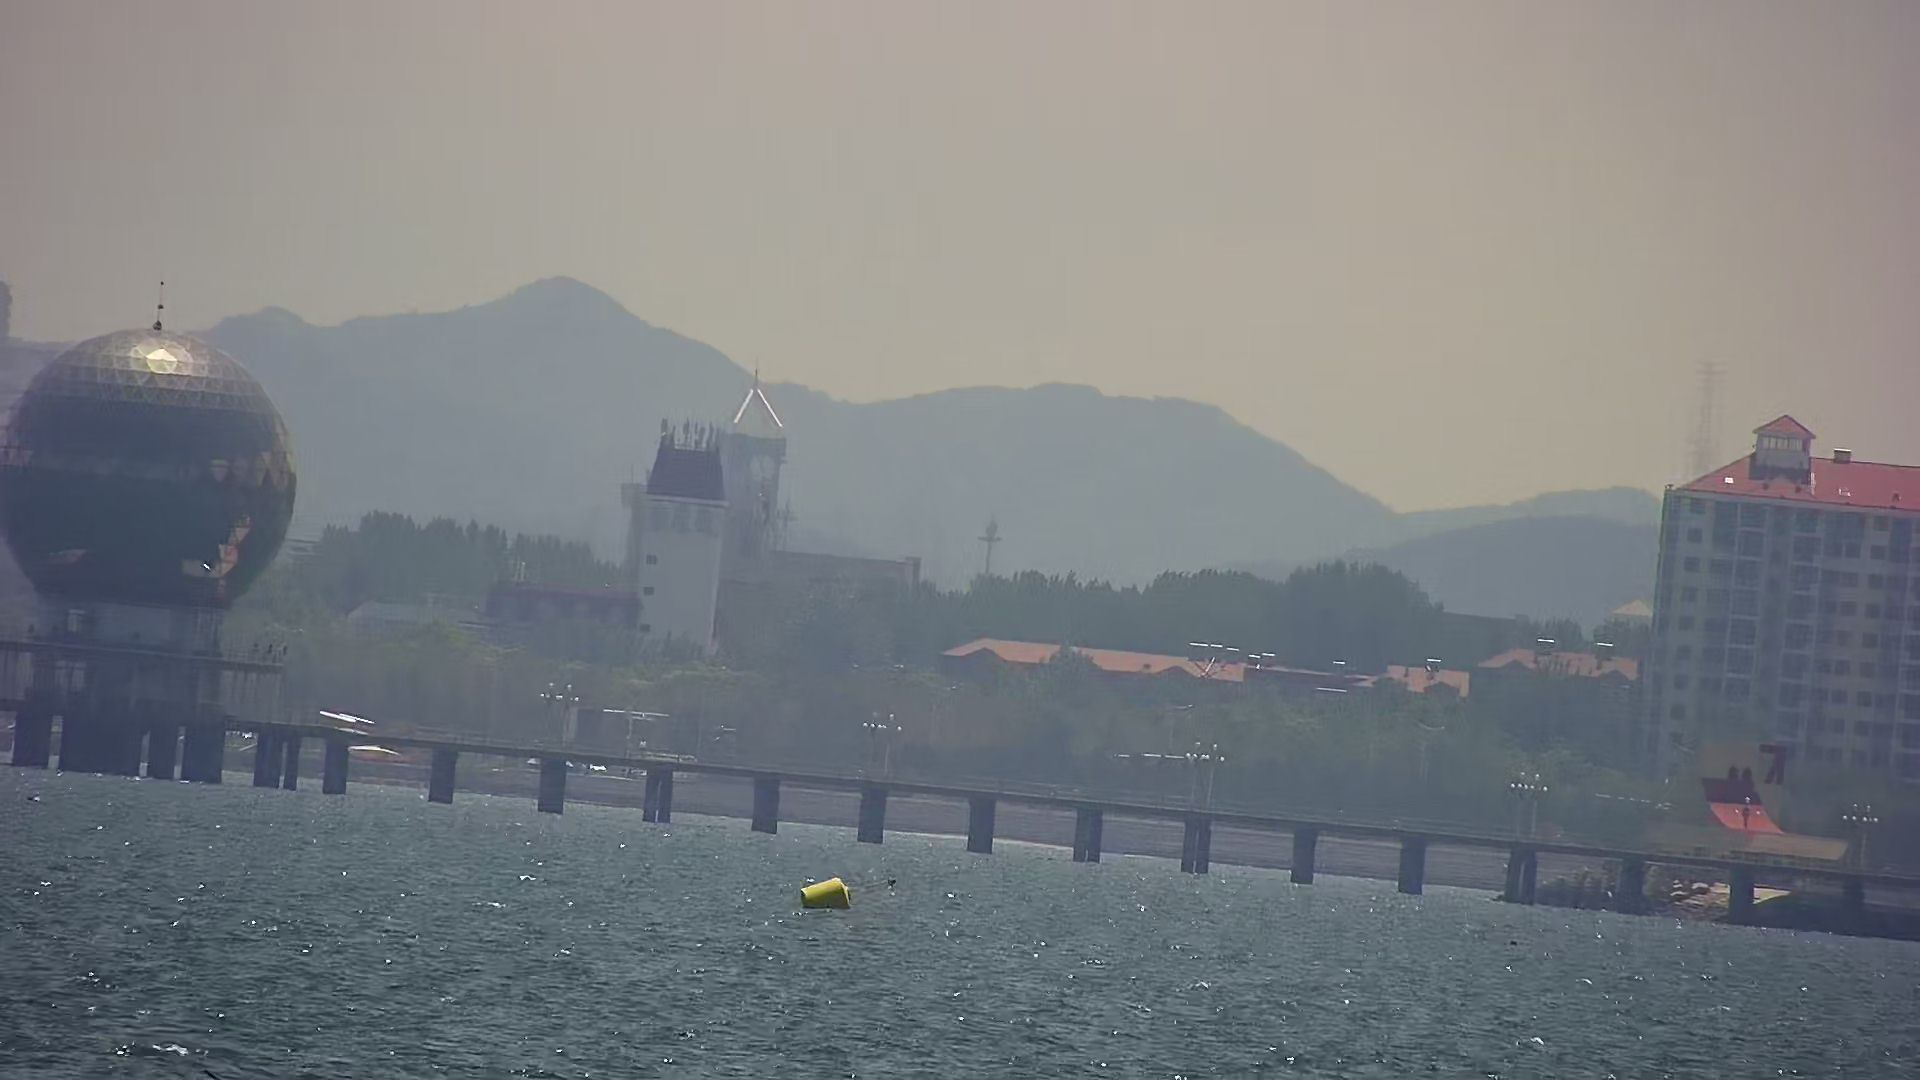bridge: (9, 618, 1920, 939)
rubbish: (785, 862, 857, 918)
